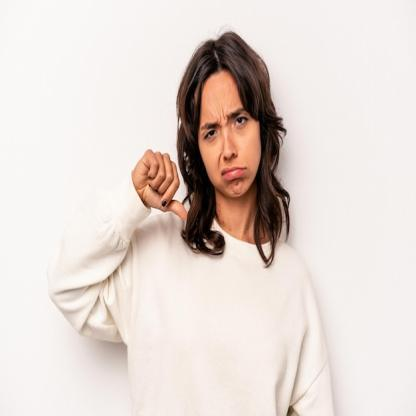thumb_down: (130, 140, 191, 228)
